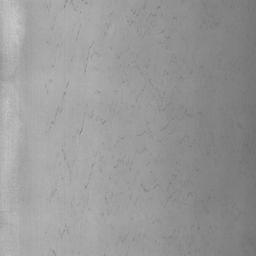Silk spot: (49, 106, 63, 129), (113, 159, 133, 168), (64, 0, 78, 11), (59, 224, 69, 239)
